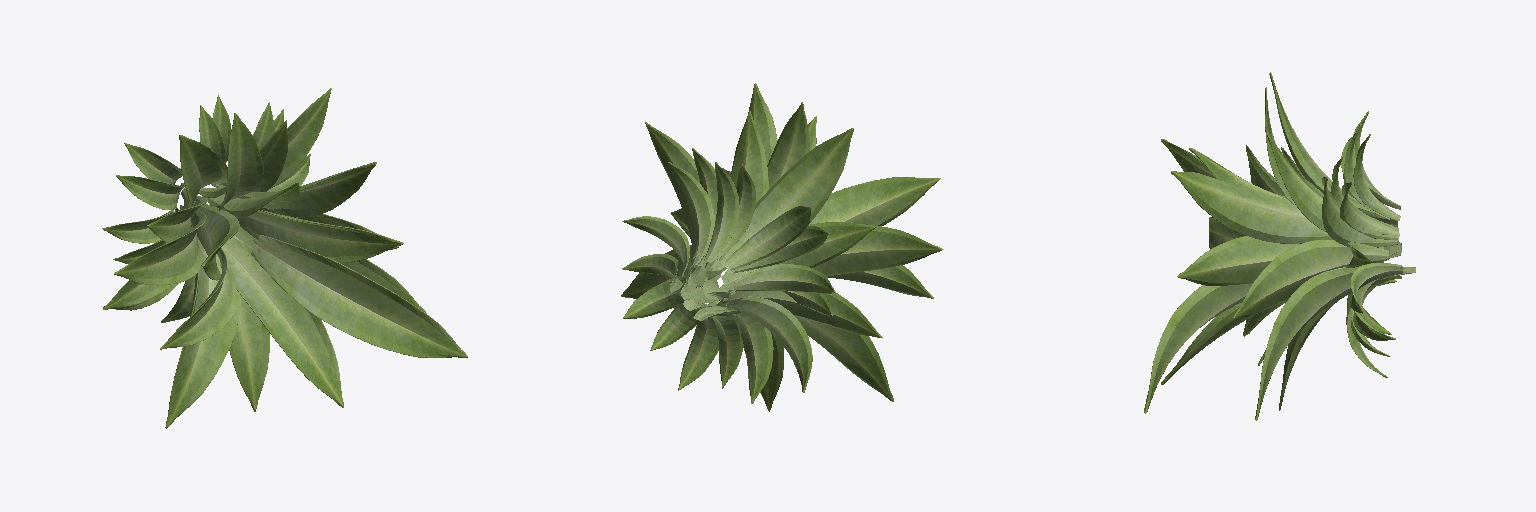
3 renders of one model, left to right at view 1: azimuth 30°, elevation 25°; view 2: azimuth 150°, elevation 25°; view 3: azimuth 270°, elevation 25°, orthographic.
Visible parts, largest first — view 1: PineappleFruitLeaf; view 2: PineappleFruitLeaf; view 3: PineappleFruitLeaf.
Part boxes in pixels (x1,y1,x2,y2): PineappleFruitLeaf: (102,88,467,428); PineappleFruitLeaf: (621,83,943,411); PineappleFruitLeaf: (1144,72,1415,420).
Size of the model in its own units: 0.2031 by 0.19 by 0.1506.
1 materials, 1 textured.